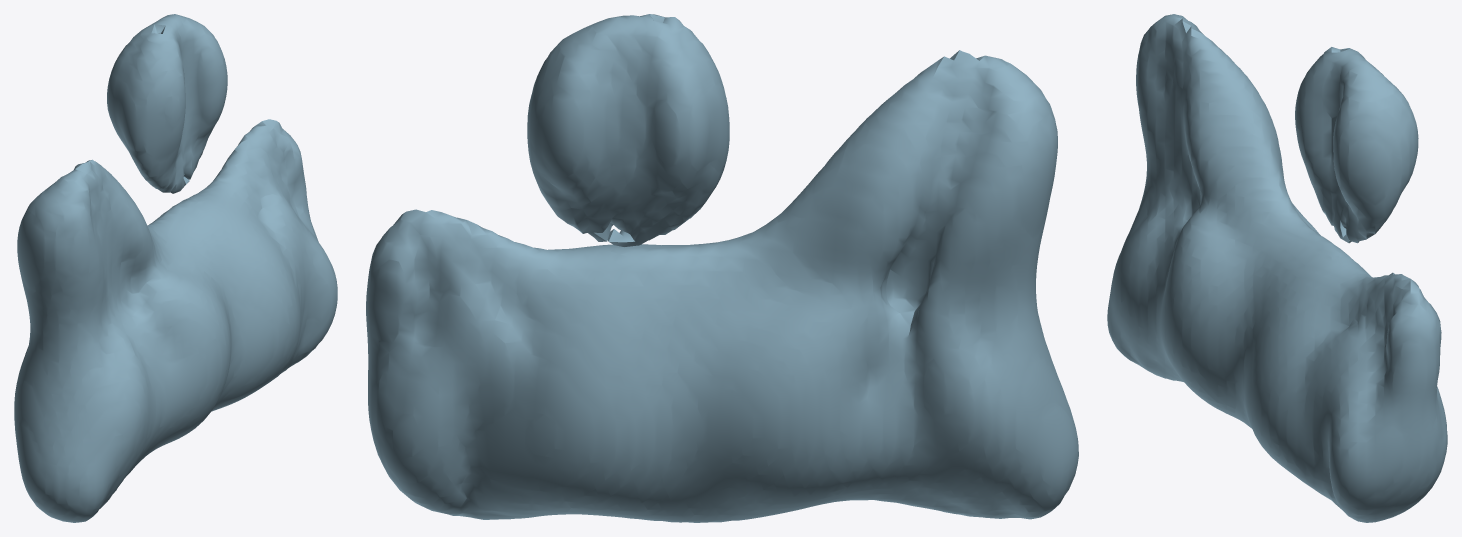
File: envelope.mollified.diff_stress.p90.glb
3 views of the same model, side by side, from view 1: azimuth 30°, elevation 25°; view 2: azimuth 150°, elevation 25°; view 3: azimuth 270°, elevation 25° (orthographic). The views are drawn at different scales.
Parts seen in each view (by area): view 1: envelope.mollified.diff_stress.p90; view 2: envelope.mollified.diff_stress.p90; view 3: envelope.mollified.diff_stress.p90.
Boxes of the visible parts, x1,y1,x2,y2 form: envelope.mollified.diff_stress.p90: (14, 14, 337, 522); envelope.mollified.diff_stress.p90: (366, 14, 1078, 522); envelope.mollified.diff_stress.p90: (1107, 14, 1447, 522).
Size of the model in its own units: 11.13 by 10.3 by 7.76.
